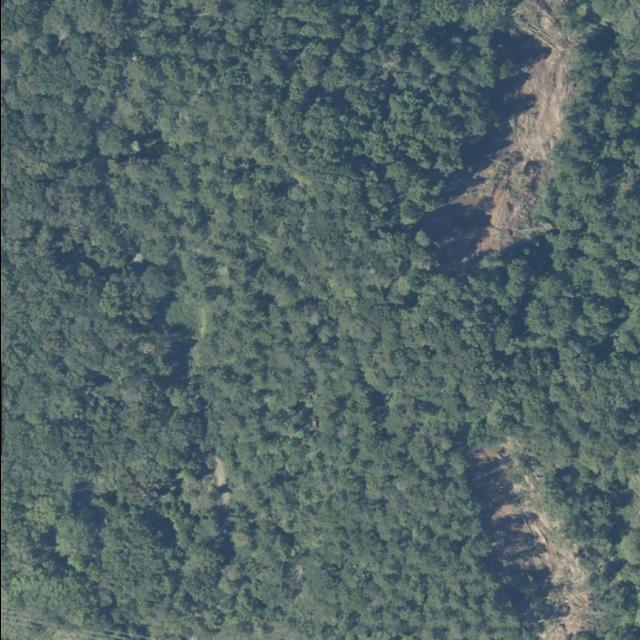landslide: (419, 0, 569, 270), (466, 441, 591, 640)
